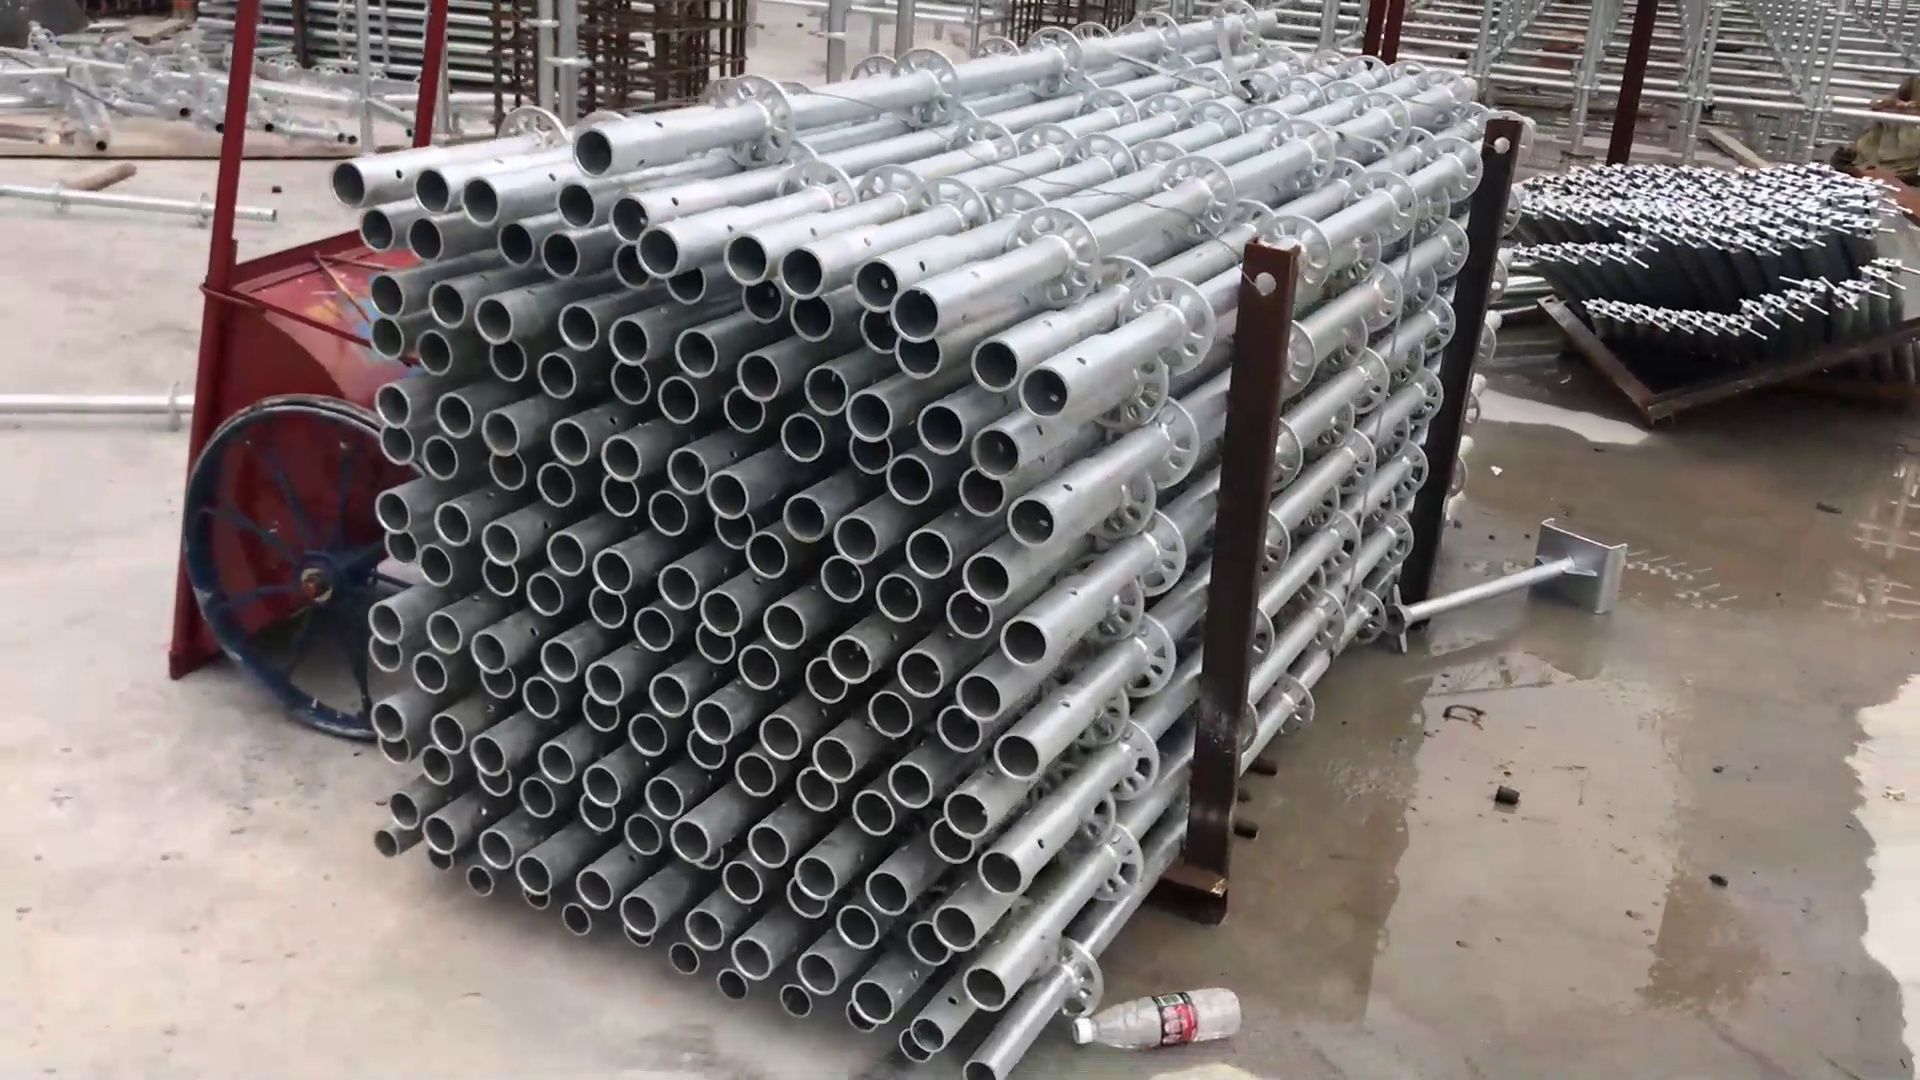handcart: (152, 1, 489, 753)
scaffold: (338, 3, 1539, 1080), (1530, 156, 1920, 371)
